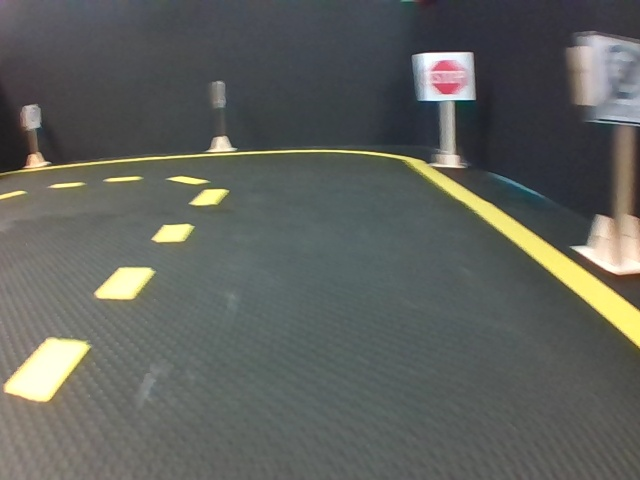30: (24, 104, 39, 128)
no30: (592, 37, 639, 123)
stop: (421, 50, 471, 104)
